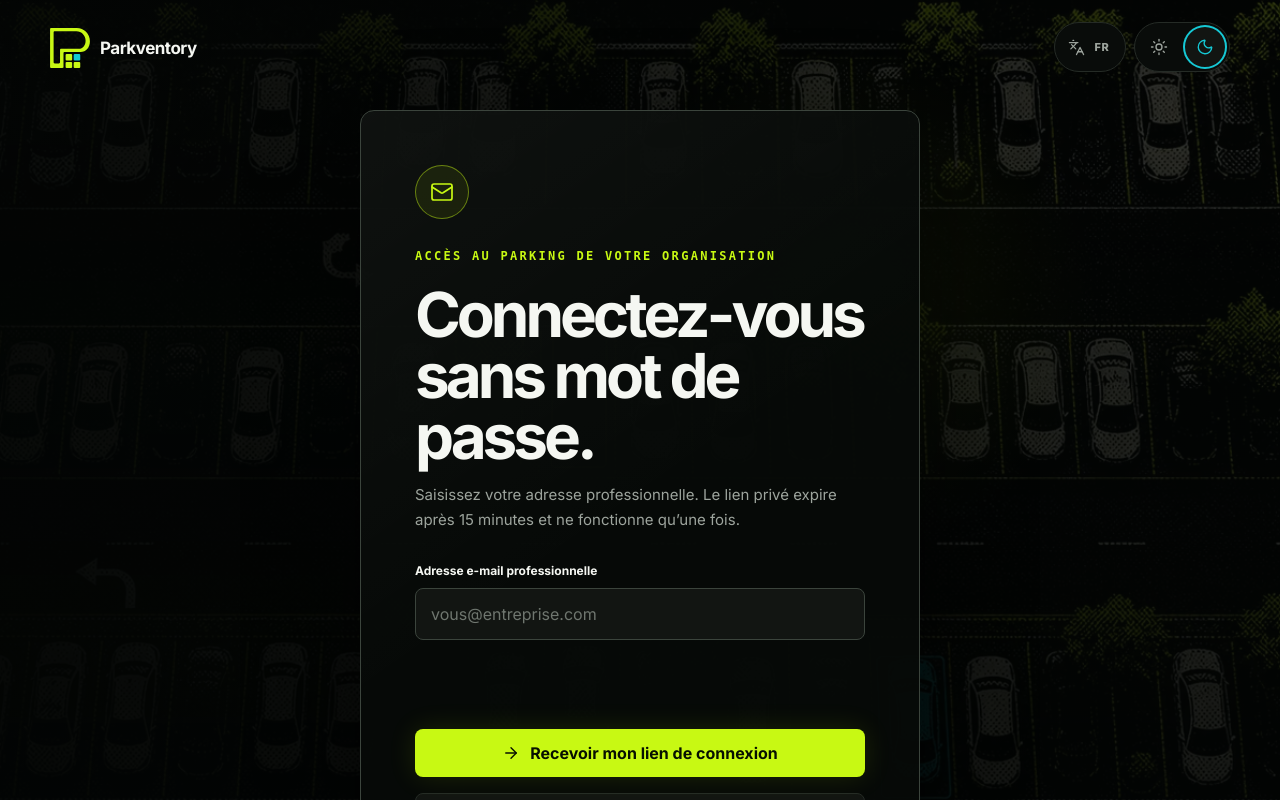
Test: authentication destinations › conserve le blocage des domaines personnels dans le formulaire métier
This screenshot has width=1280, height=800.
Type "member@gmail.com" into the field labelled "Adresse e-mail professionnelle" at (640, 614), box [415,588,865,640]
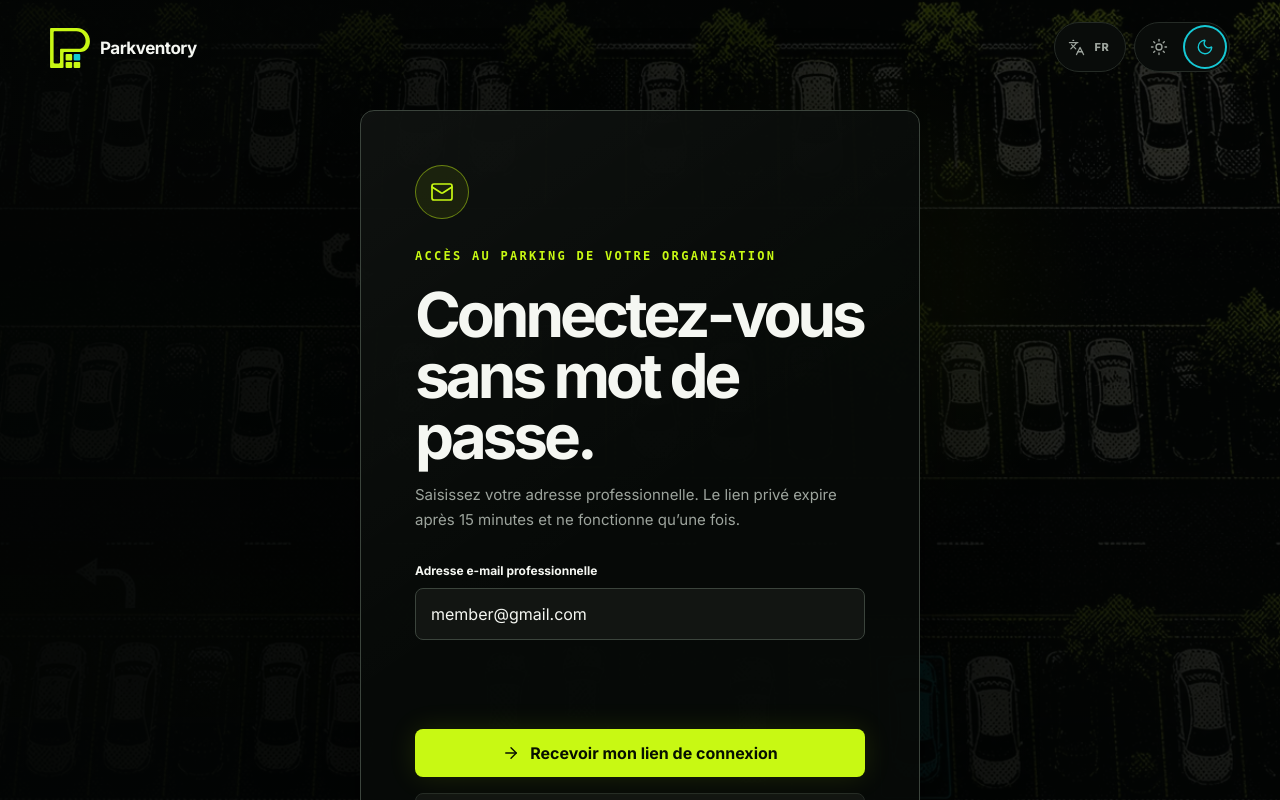
Click the button "Recevoir mon lien de connexion" at (640, 753), box [415,729,865,777]
(page scrolled)
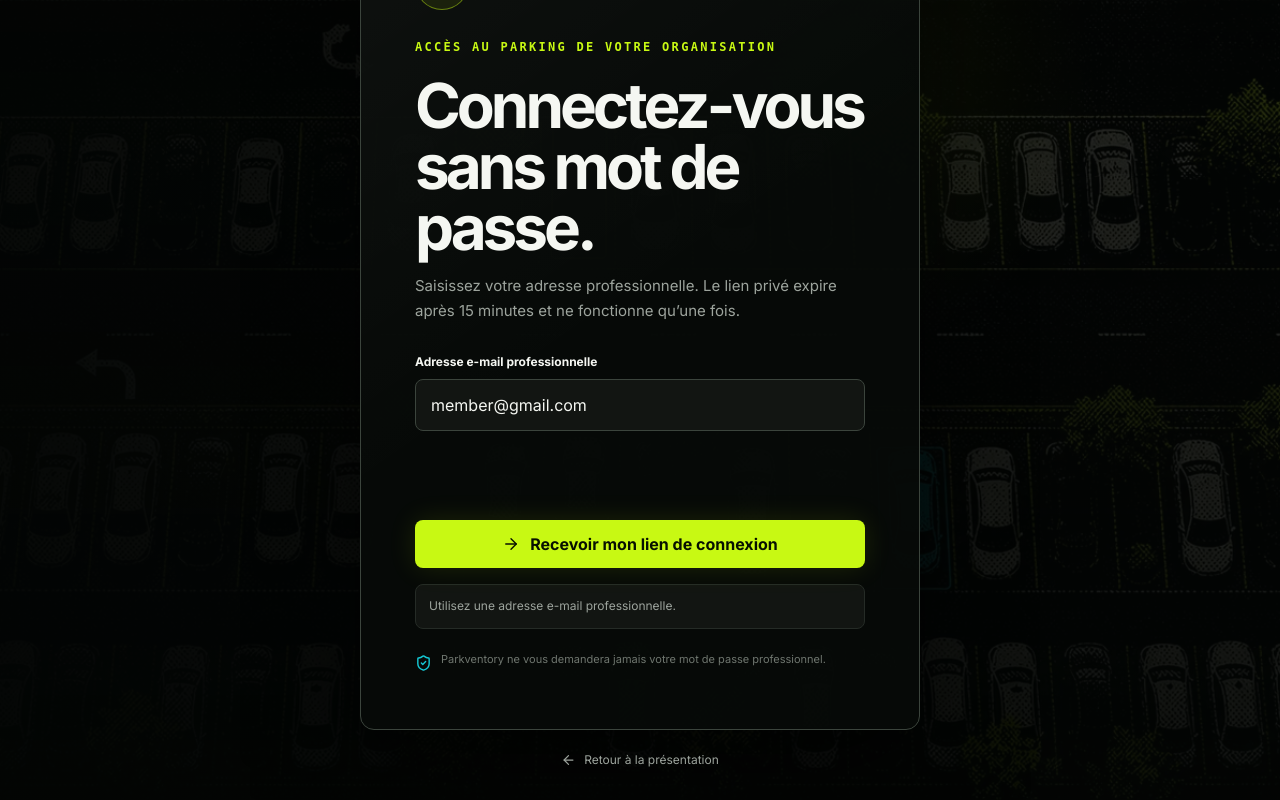
Check: the text "Utilisez une adresse e-mail professionnelle." is shown, box [429,597,676,615]
